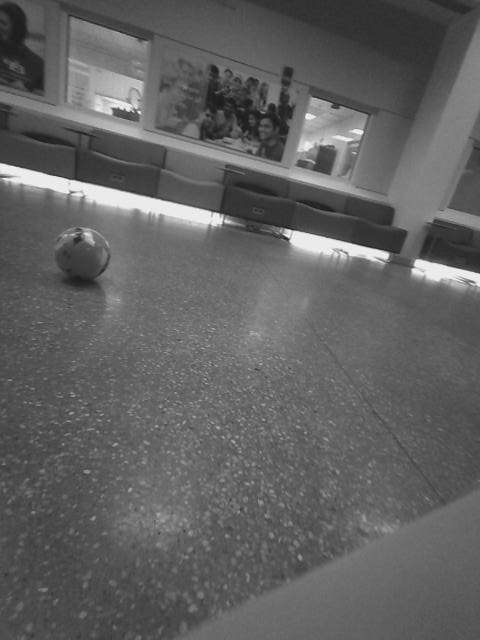ball: (100, 299, 153, 349)
